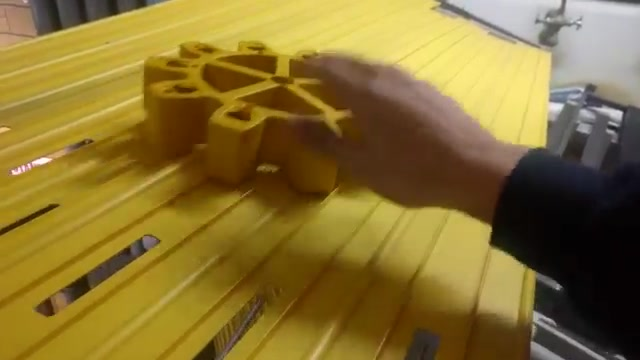gear: (143, 15, 421, 225)
